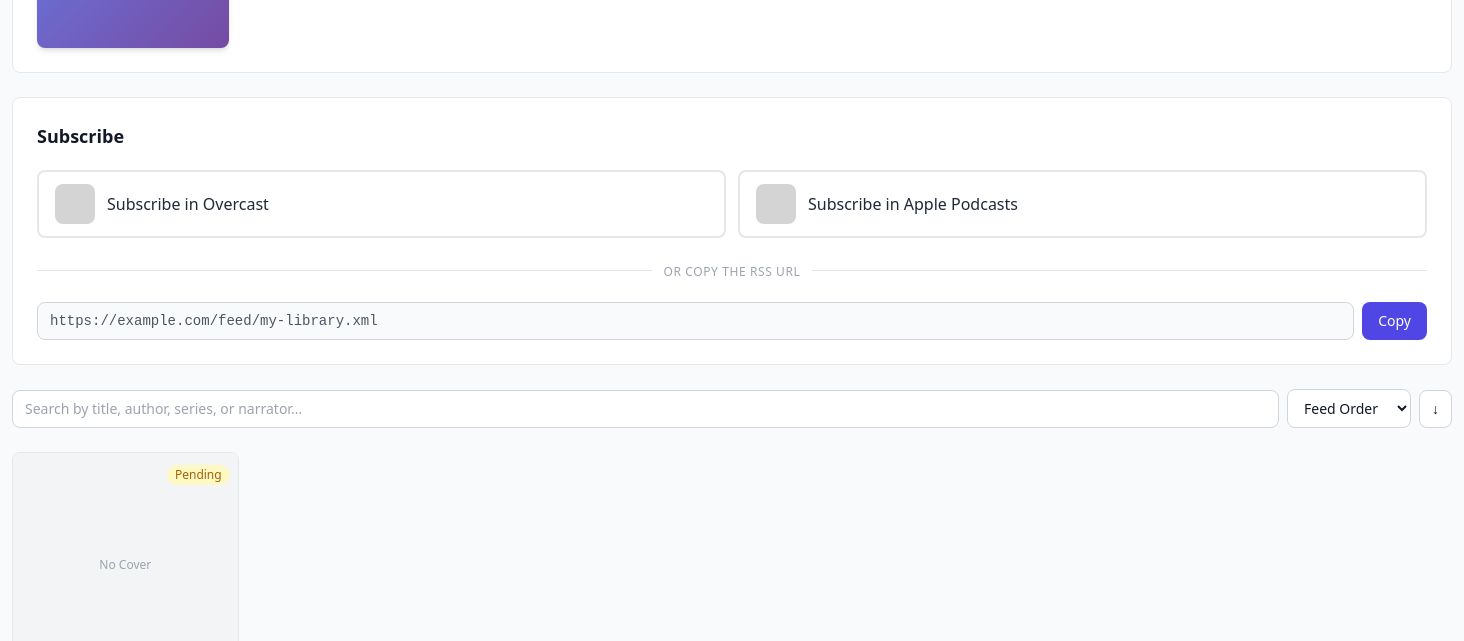
Scenario: FeedDetailPage › Clear restores the full list
In the field with placeholder "Search by title, author, series, or narrator…": (646, 408) [12,390,1279,428], type "zzz"
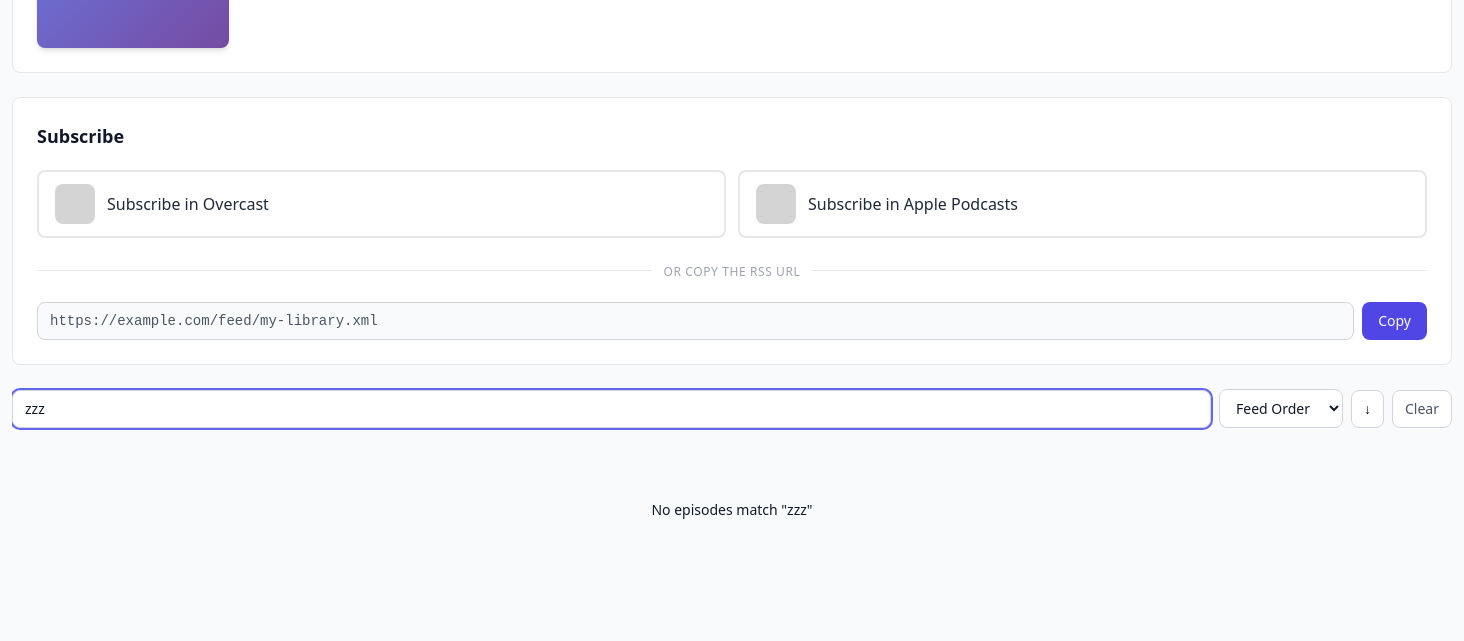
Click the button "Clear": (1422, 408) [1392,390,1452,428]
(page scrolled)
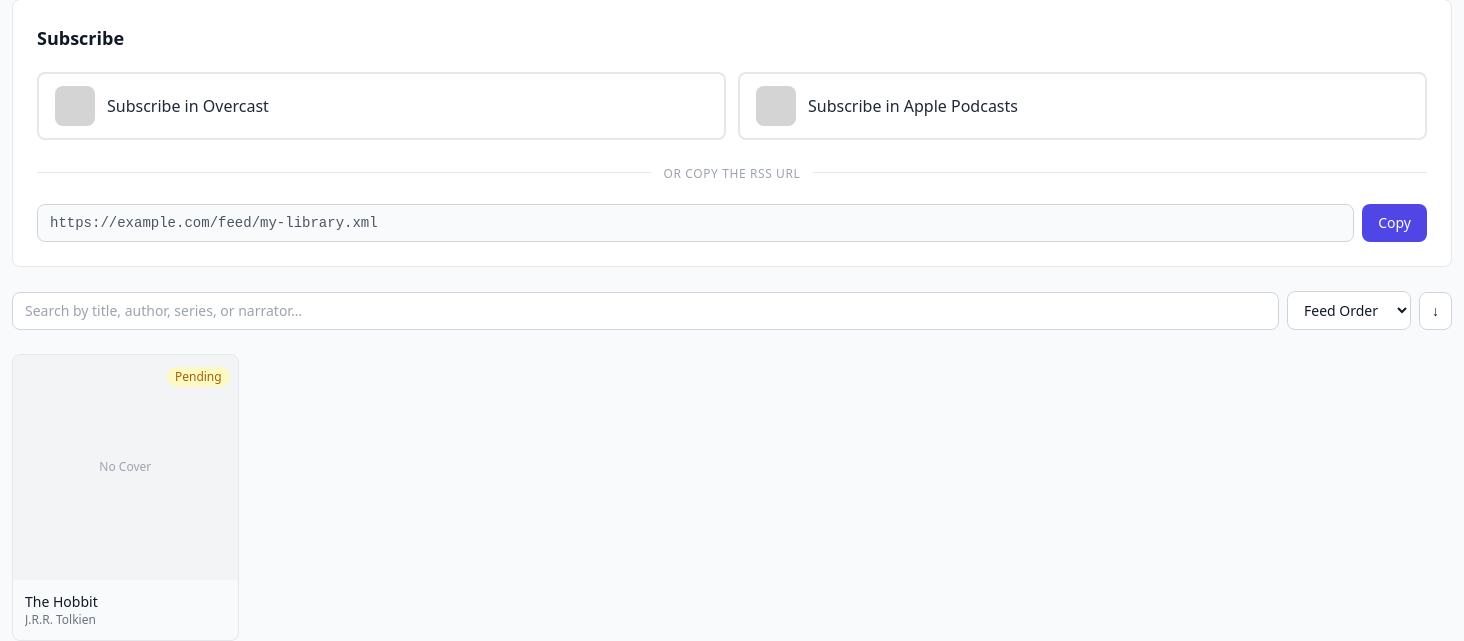
Expected: the text "The Hobbit" is shown, [25,592,98,611]
